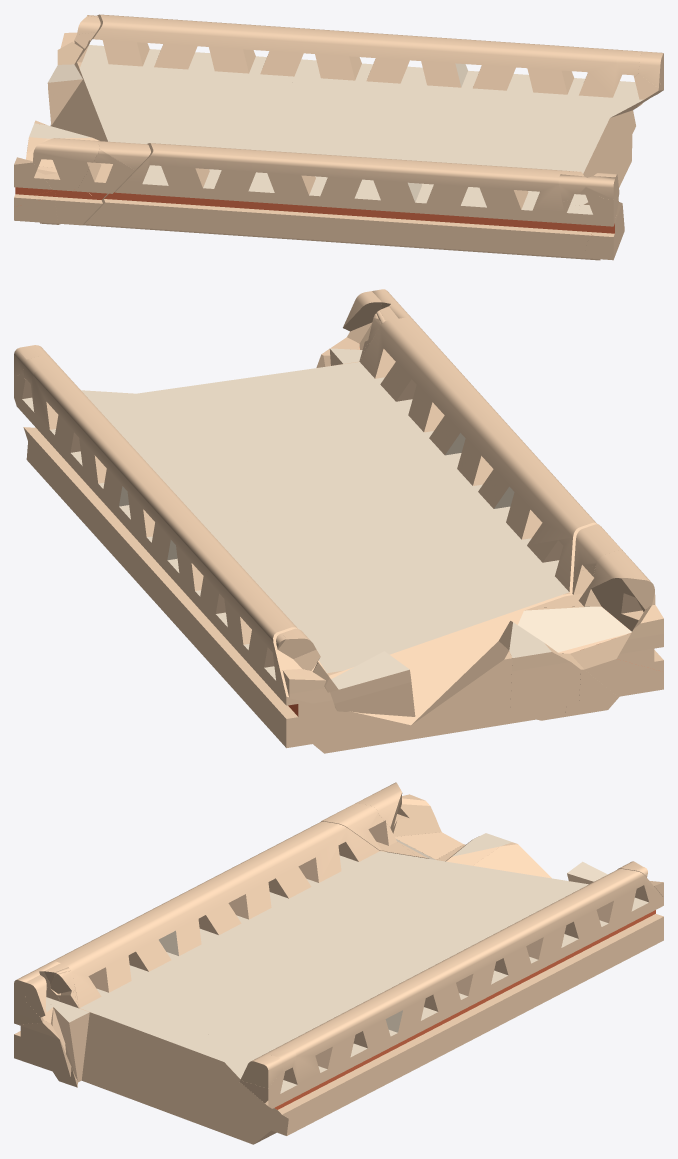
File: Bridge_partA.fbx
3 renders of one model, top to bottom at view 1: azimuth 30°, elevation 25°; view 2: azimuth 150°, elevation 25°; view 3: azimuth 270°, elevation 25°, orthographic. The views are drawn at different scales.
Parts seen in each view (by area): view 1: Bridge_partA; view 2: Bridge_partA; view 3: Bridge_partA.
Part boxes in pixels (left/top/right/bottom): Bridge_partA: left=14, top=14, right=663, bottom=260; Bridge_partA: left=14, top=289, right=663, bottom=753; Bridge_partA: left=14, top=782, right=663, bottom=1144.
Bounding box in the file's own units: 2815 × 442 × 2630.
